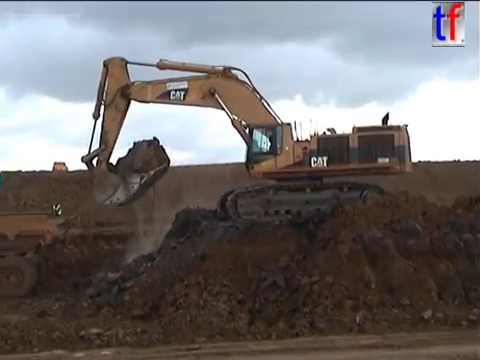excavator: (77, 53, 416, 227)
truck: (1, 208, 69, 300), (51, 160, 68, 176)
worker: (49, 197, 66, 229)
